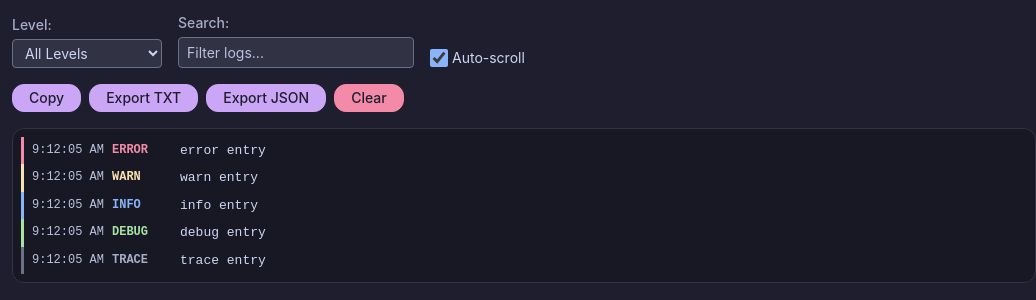
it: LogsViewer › NIT-10: level filtering › filtering by 'error' shows only that level's entries
The width and height of the screenshot is (1036, 300).
Select "Errors" in the dropdown labelled "Level:": point(87, 54) [12,39,162,68]
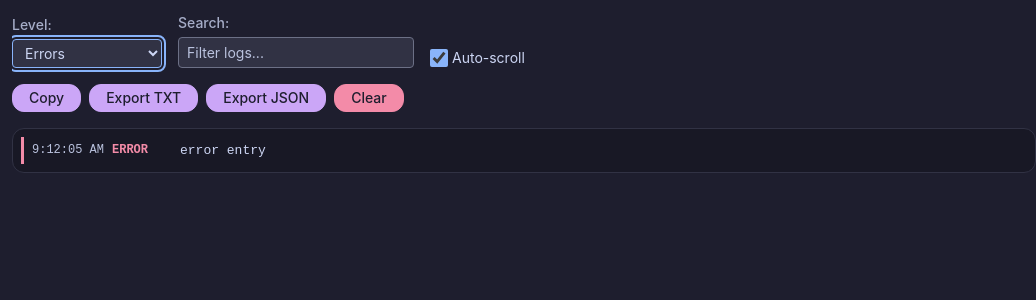
Expected: the number of elements with class "log-entry" is 1, [21,136,1027,164]
